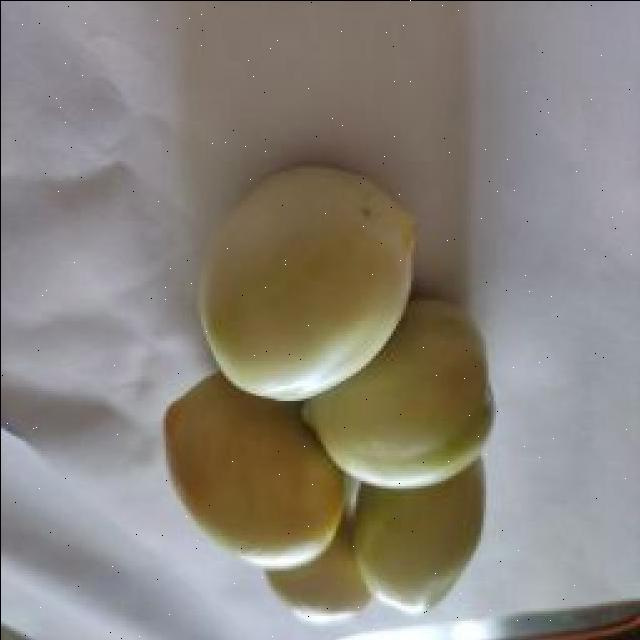tomato: (198, 165, 412, 401), (310, 297, 496, 491), (164, 368, 346, 566), (352, 450, 485, 615), (263, 500, 371, 622)
